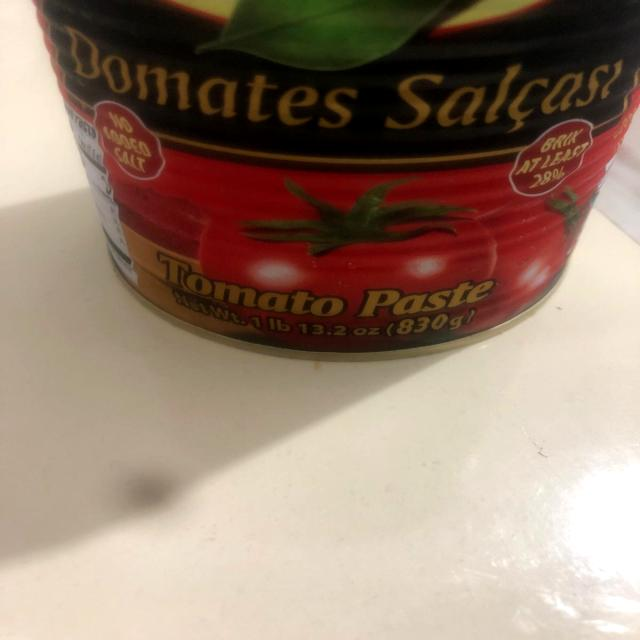tomato paste: (42, 1, 640, 352)
